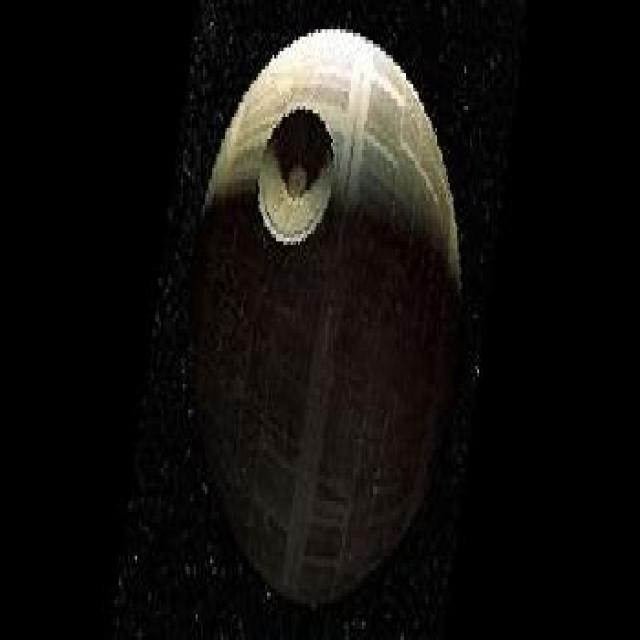Death Star: (183, 22, 468, 607)
